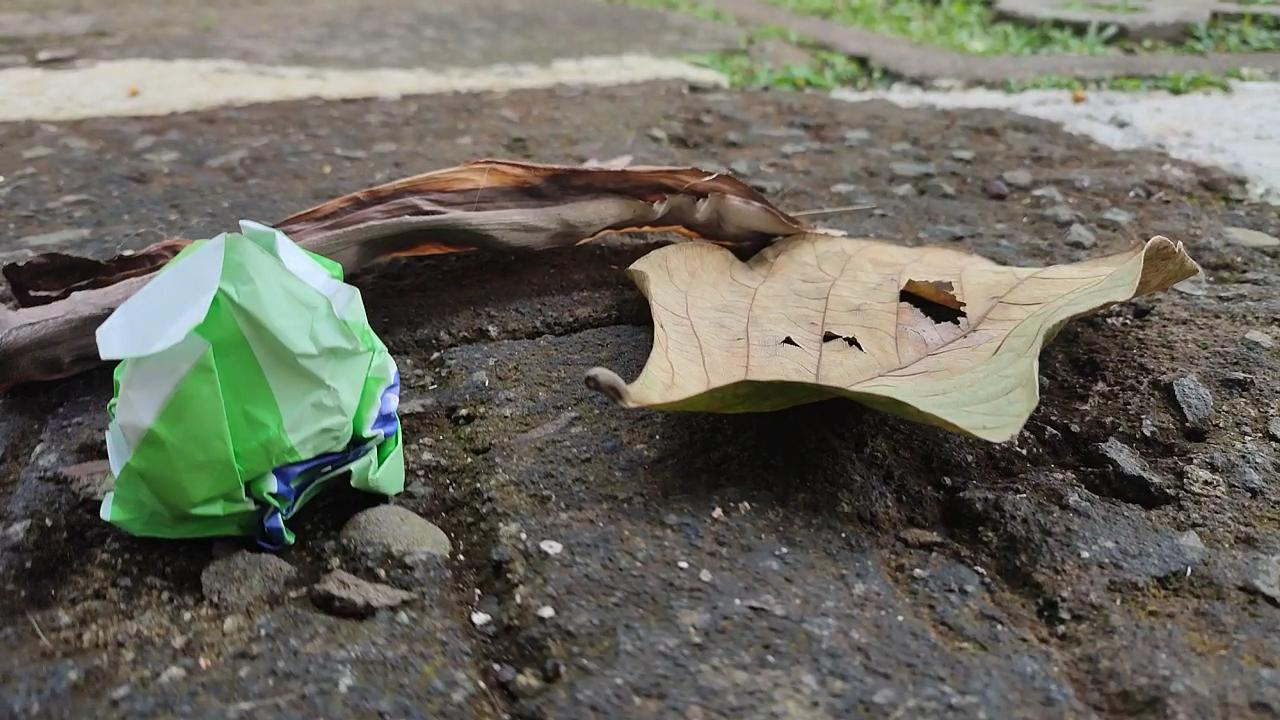Paper: (81, 212, 421, 548)
